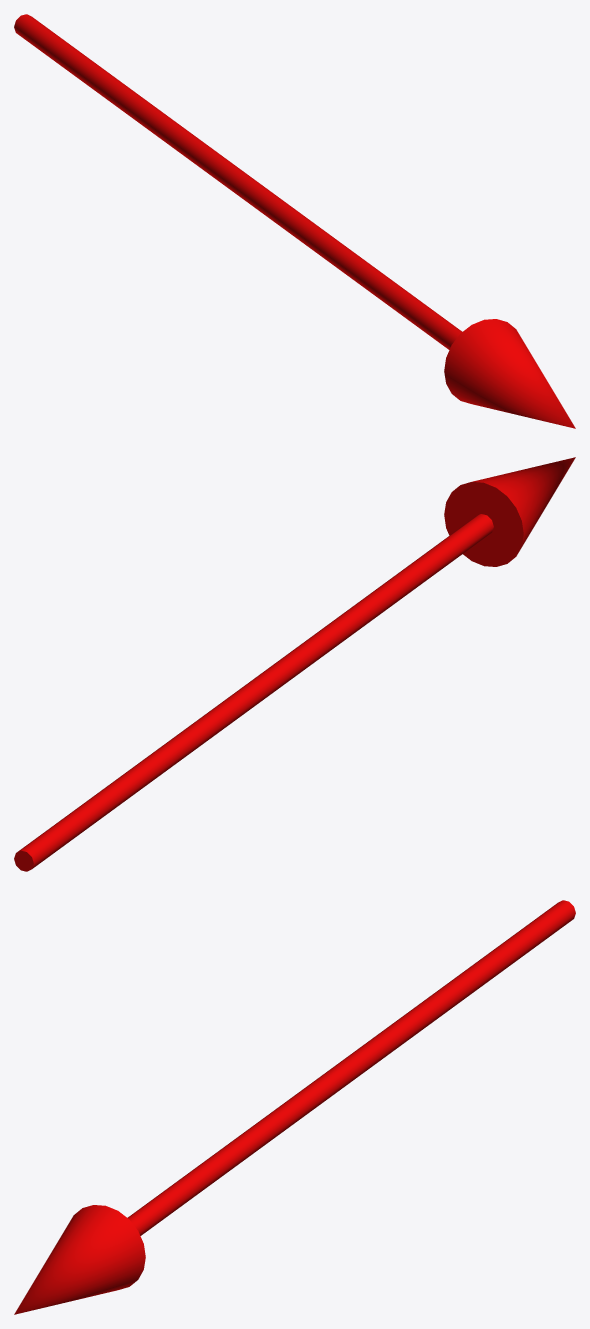
The model's file is Gizmo_X_red_coneLine.fbx.
3 views of the same model, one above another, from view 1: azimuth 30°, elevation 25°; view 2: azimuth 150°, elevation 25°; view 3: azimuth 330°, elevation 25° (orthographic).
Parts seen in each view (by area): view 1: Gizmo_X_red_coneLine; view 2: Gizmo_X_red_coneLine; view 3: Gizmo_X_red_coneLine.
Boxes of the visible parts, x1=… form: Gizmo_X_red_coneLine: x1=14, y1=14, x2=575, y2=428; Gizmo_X_red_coneLine: x1=14, y1=457, x2=575, y2=871; Gizmo_X_red_coneLine: x1=14, y1=900, x2=575, y2=1314.
Size of the model in its own units: 2 by 2 by 24.
